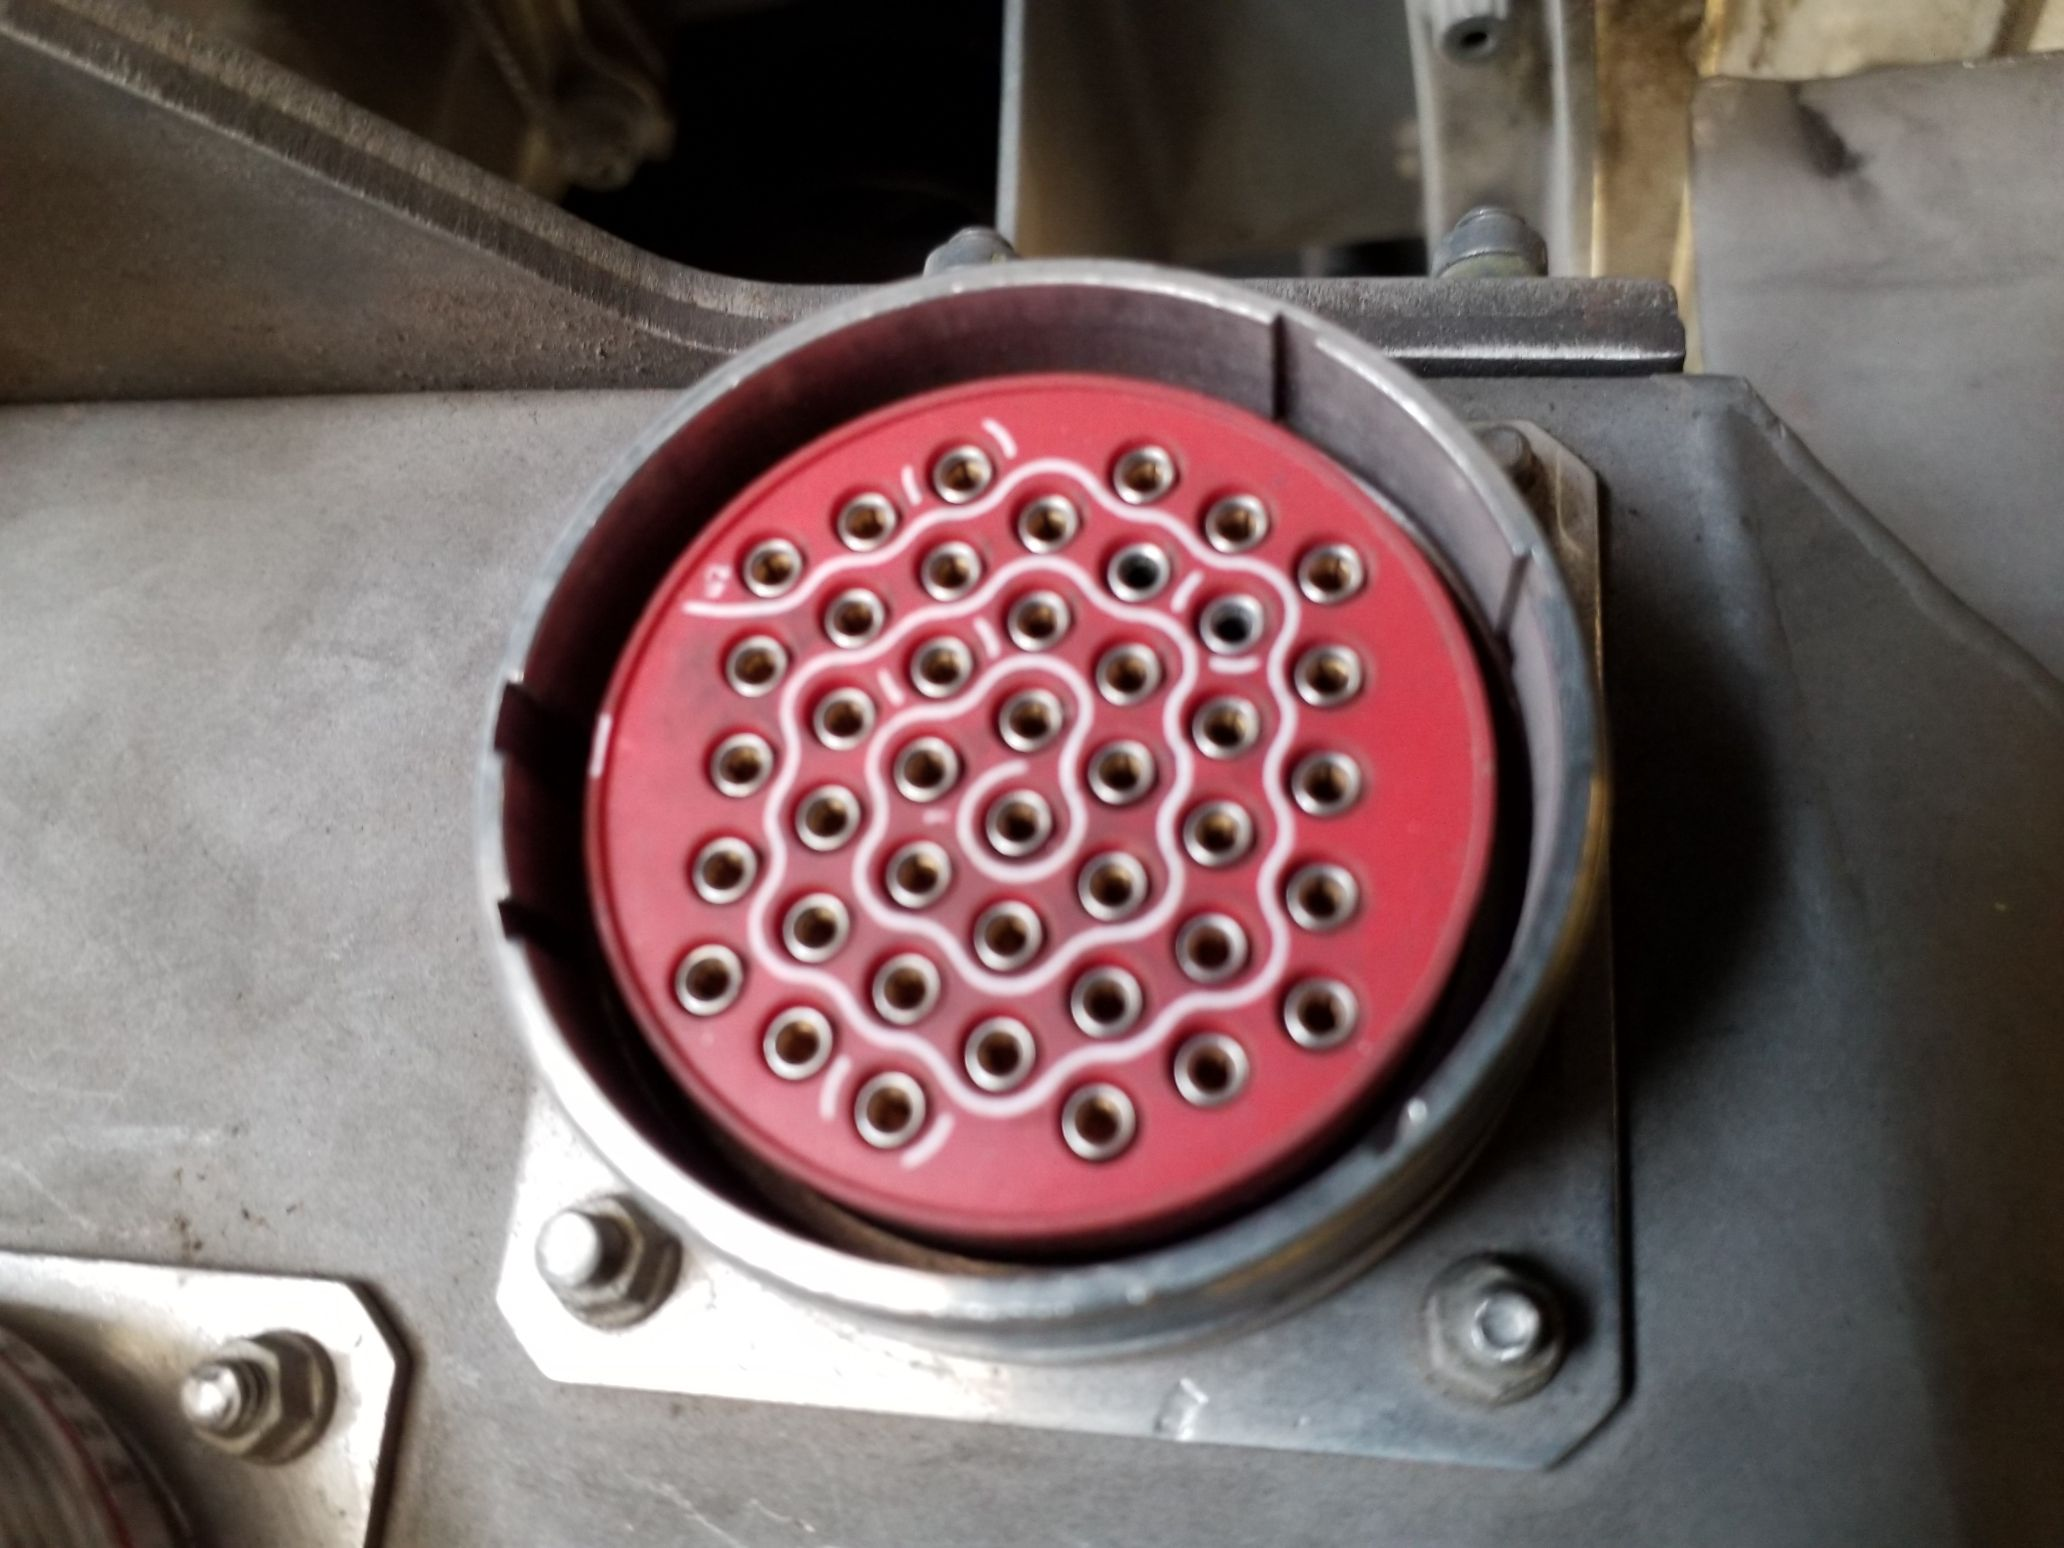inletround: (465, 249, 1620, 1332)
